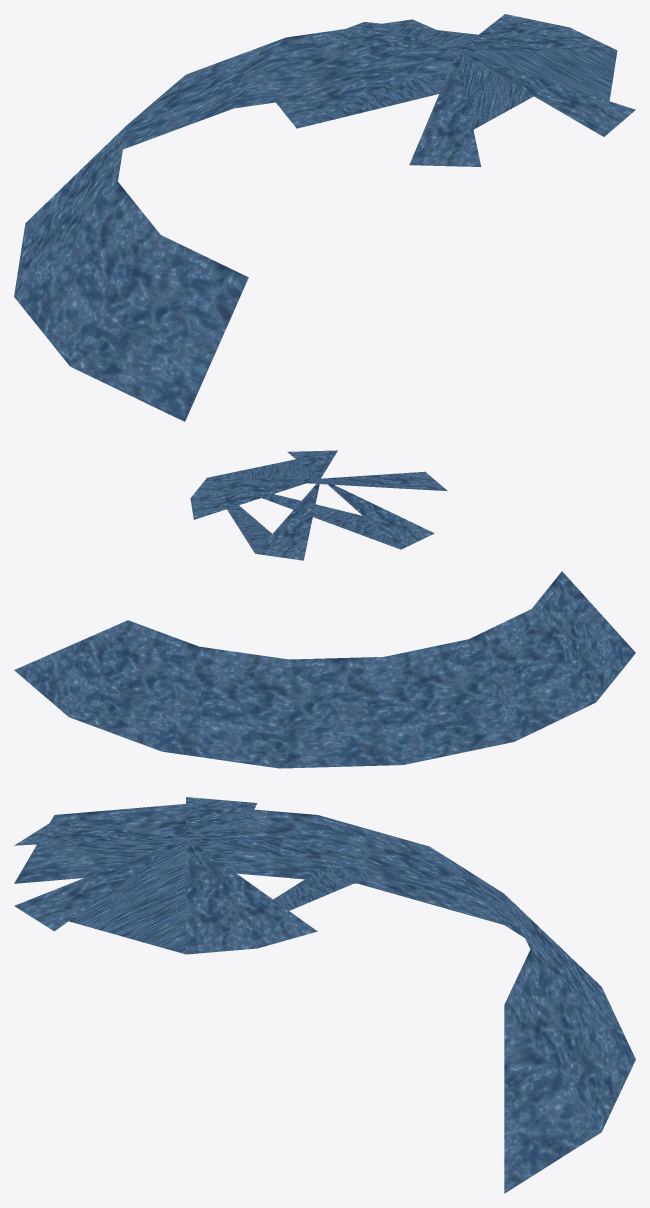
The model's file is sky-boss-gol-dragon.obj.
3 views of the same model, one above another, from view 1: azimuth 30°, elevation 25°; view 2: azimuth 150°, elevation 25°; view 3: azimuth 270°, elevation 25° (orthographic). The views are drawn at different scales.
Visible parts, largest first — view 1: mesh_sky_0; view 2: mesh_sky_0; view 3: mesh_sky_0.
Part boxes in pixels (<box>): mesh_sky_0: <box>14,14,635,421</box>; mesh_sky_0: <box>14,450,635,768</box>; mesh_sky_0: <box>14,797,635,1193</box>.
Size of the model in its own units: 8201 by 2615 by 6643.
Materials: 1 (1 with a texture image).
